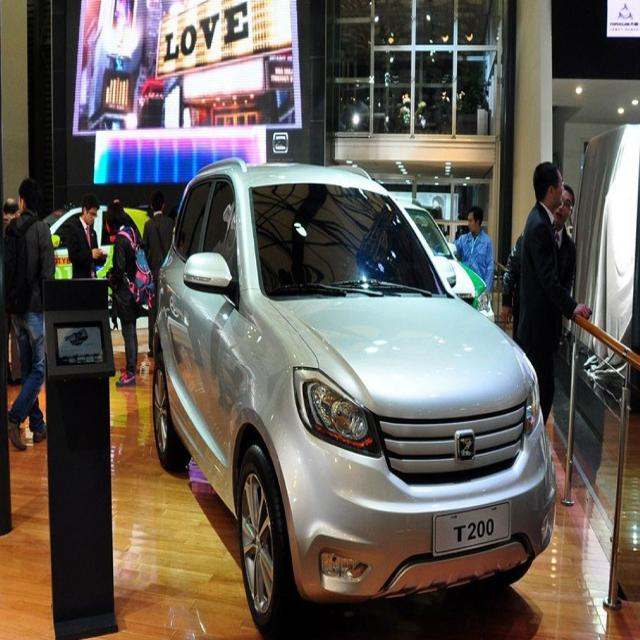front_bumper: (266, 418, 552, 606)
front_glass: (250, 178, 440, 301)
front_left_side_light: (520, 376, 544, 437)
front_right_side_door: (181, 164, 243, 491)
front_right_side_light: (291, 364, 377, 458)
front_right_side_mirror: (183, 248, 233, 296)
